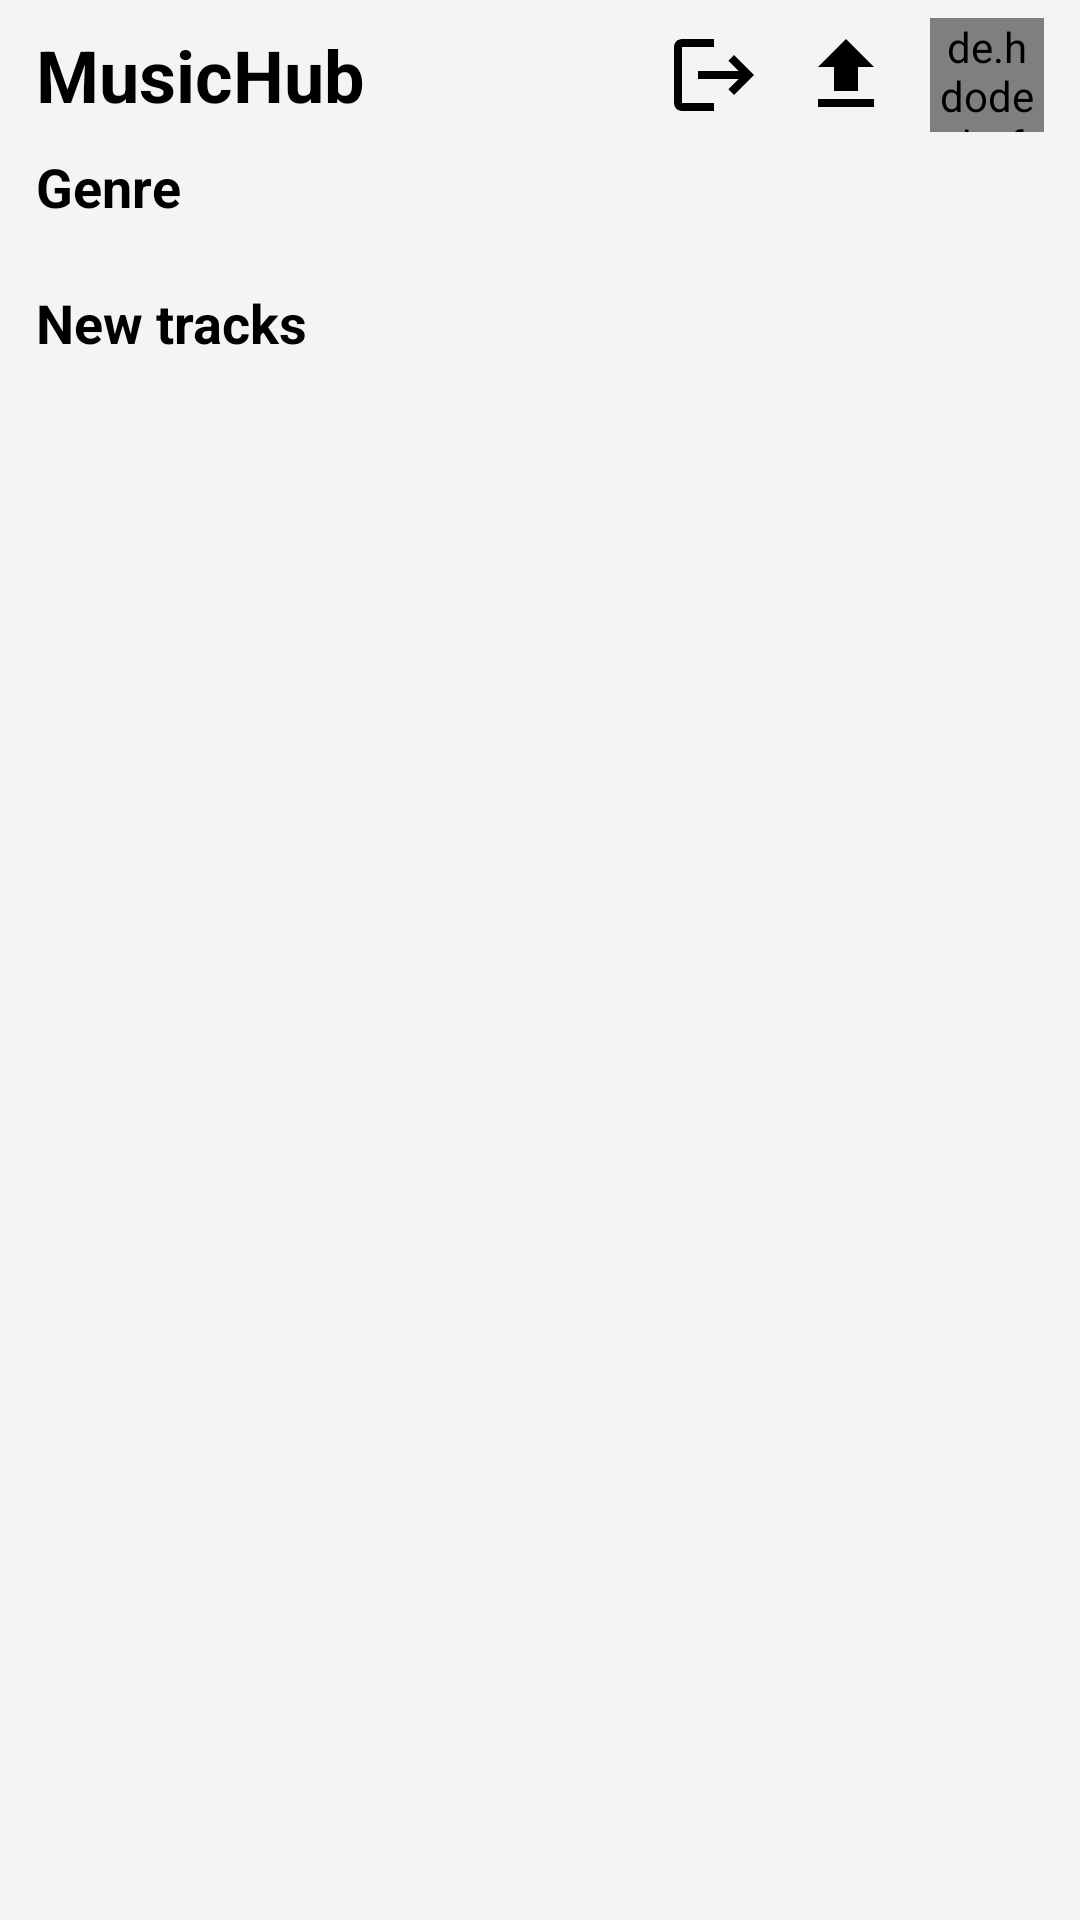

Icon bounding boxes for this 1080x1920 phone screenshot, format detection(x1, y1, x2, y2):
file upload: detection(818, 39, 874, 107)
